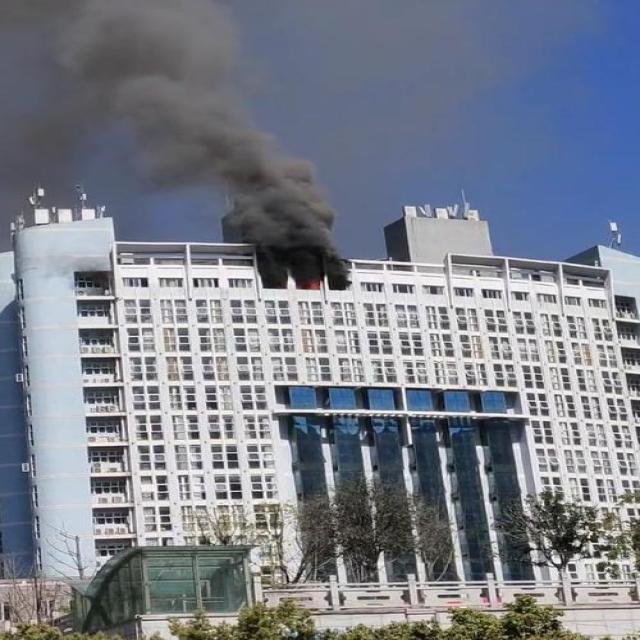Smoke: (4, 0, 348, 285)
